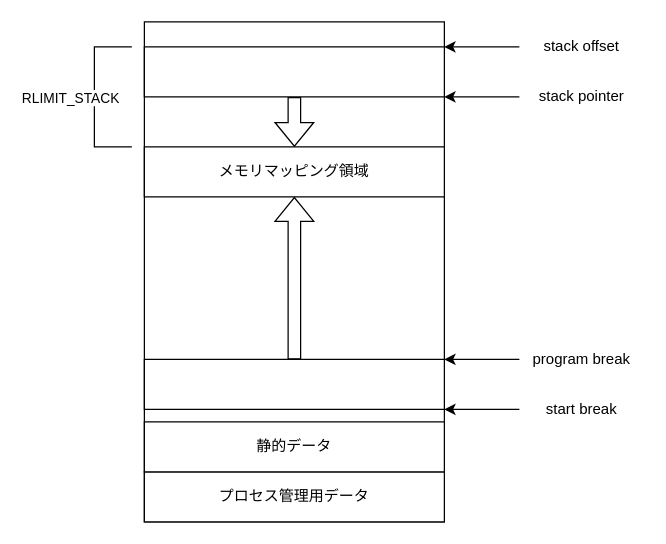
Some shapes in this 666 by 544 pixel diagram are drawn without their labels. The centre of each missing label's shape, as x and y in pixels:
"スタック" belongs at (x=293, y=71).
"ヒープ" belongs at (x=293, y=383).
